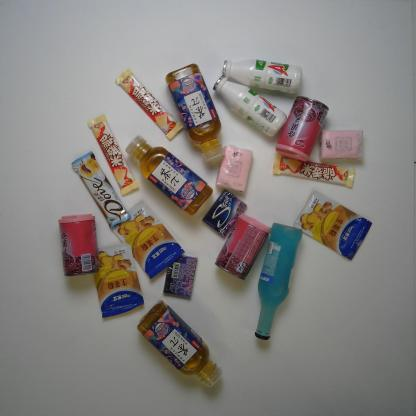Alcohol: (252, 220, 304, 342)
Canned Food: (213, 210, 272, 283), (274, 94, 330, 164), (56, 212, 102, 278)
Chocolate: (113, 66, 187, 142), (86, 110, 144, 198), (70, 150, 133, 230), (271, 150, 358, 190)
Drink: (135, 298, 225, 389), (124, 134, 214, 217), (162, 61, 228, 164)
Gum: (201, 186, 248, 238), (161, 254, 199, 300)
Milk: (211, 74, 290, 138), (221, 57, 304, 96)
Seasoner: (107, 197, 187, 282), (291, 186, 373, 262), (90, 240, 146, 321)
Tissue: (214, 143, 255, 195), (316, 125, 366, 162)
